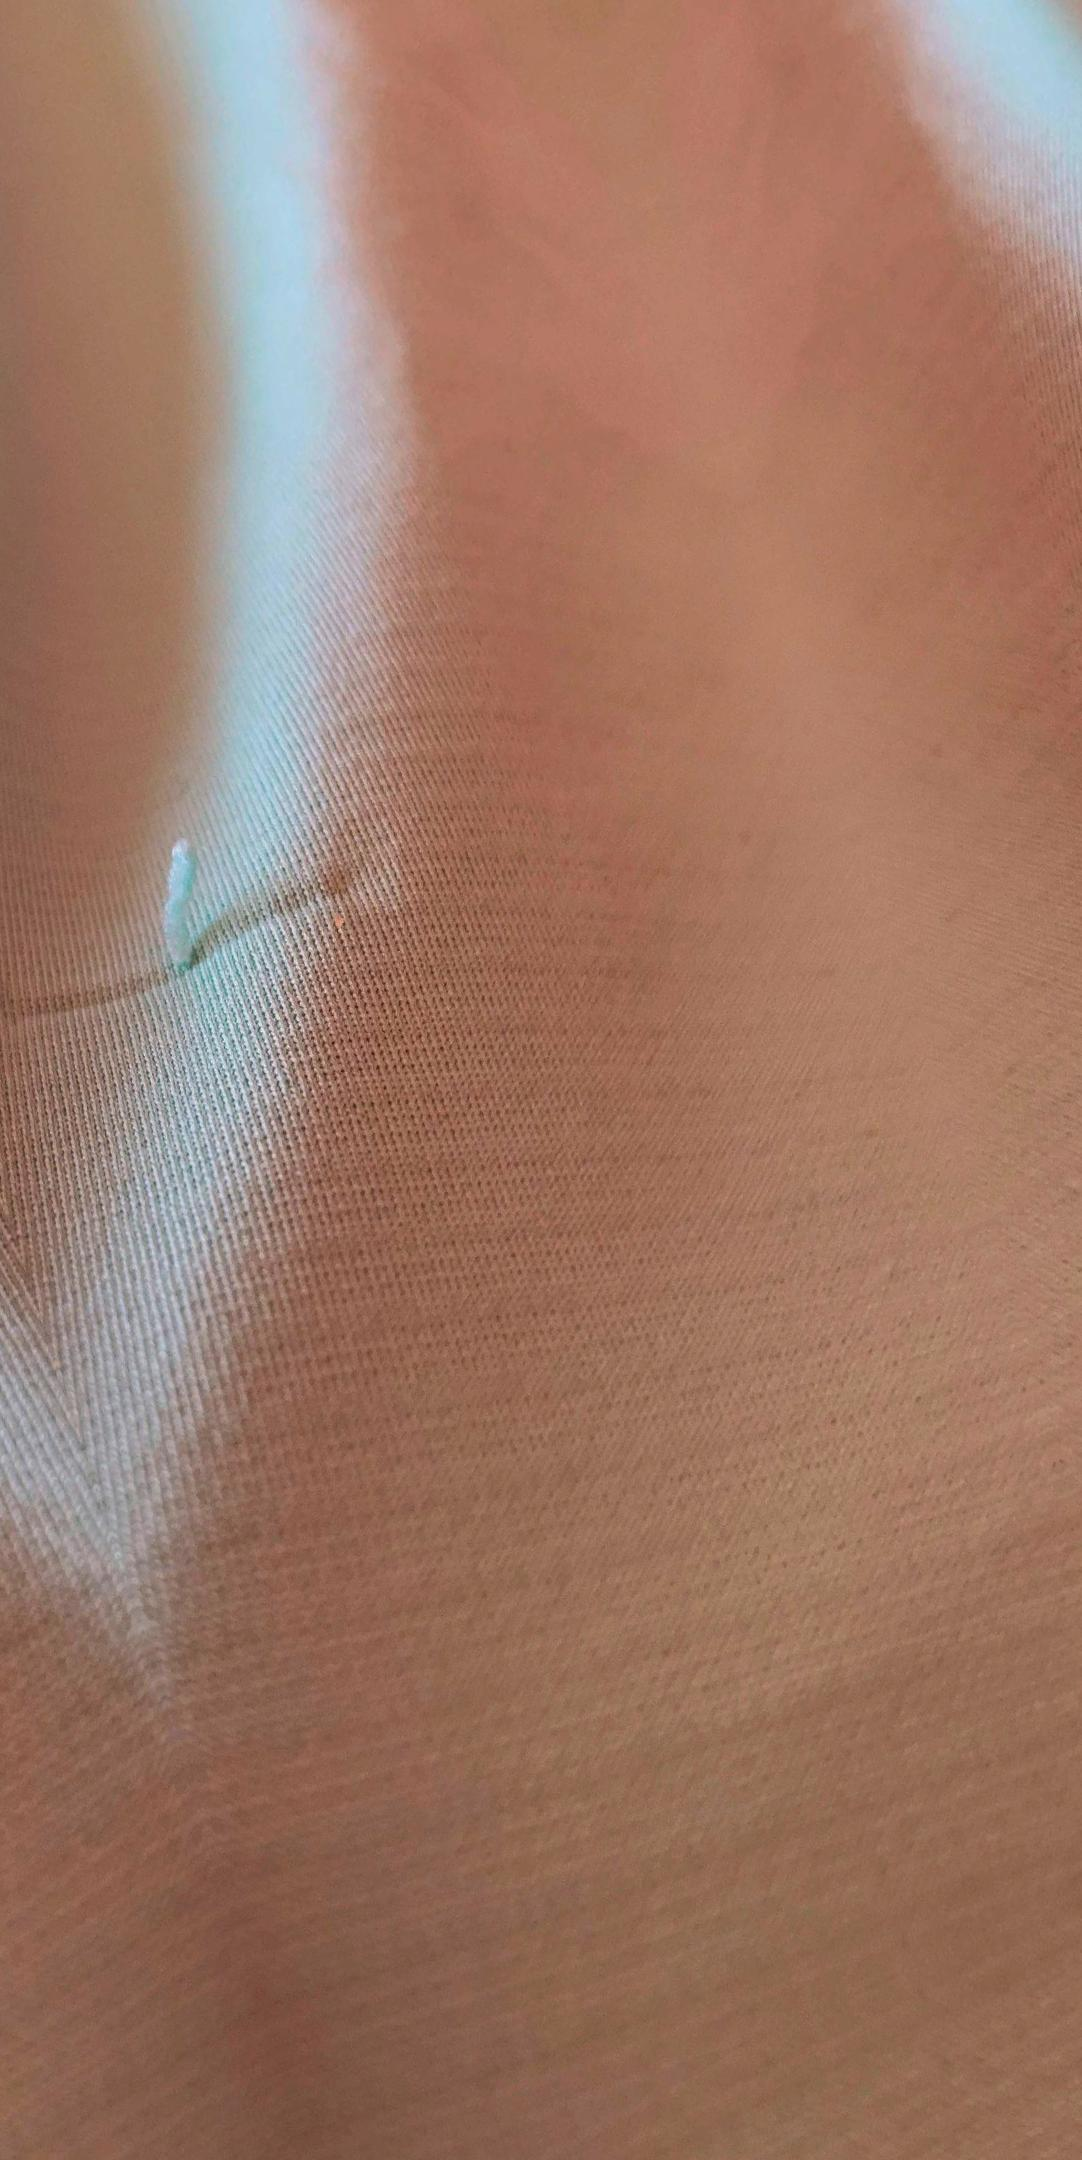snag: (77, 800, 287, 1026)
